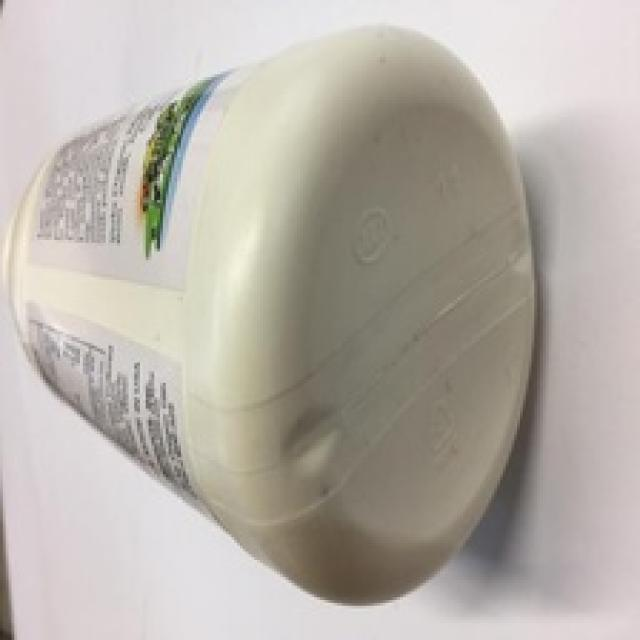Plastic: (11, 23, 536, 608)
